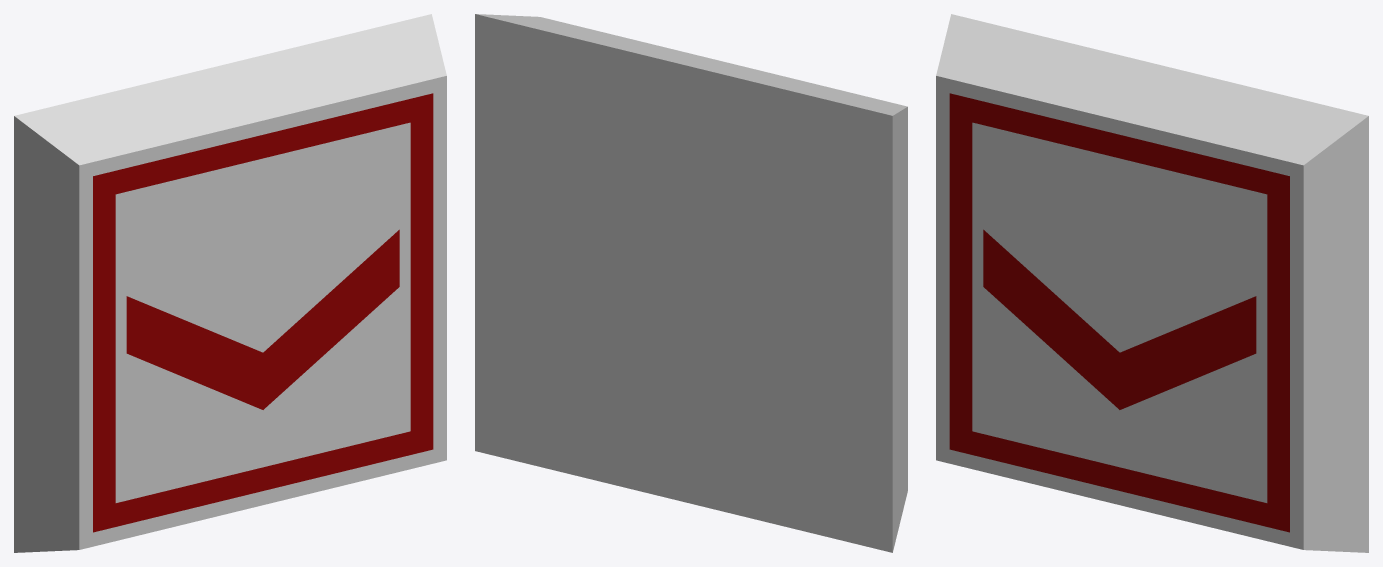
File: SciFi_Semiotic_Direction_Down_01.fbx
3 views of the same model, side by side, from view 1: azimuth 30°, elevation 25°; view 2: azimuth 150°, elevation 25°; view 3: azimuth 330°, elevation 25° (orthographic).
Parts seen in each view (by area): view 1: Model; view 2: Model; view 3: Model.
Boxes of the visible parts, <box> form: Model: <box>14,14,446,552</box>; Model: <box>475,14,907,552</box>; Model: <box>936,14,1368,552</box>.
Size of the model in its own units: 251 by 251 by 41.83.
